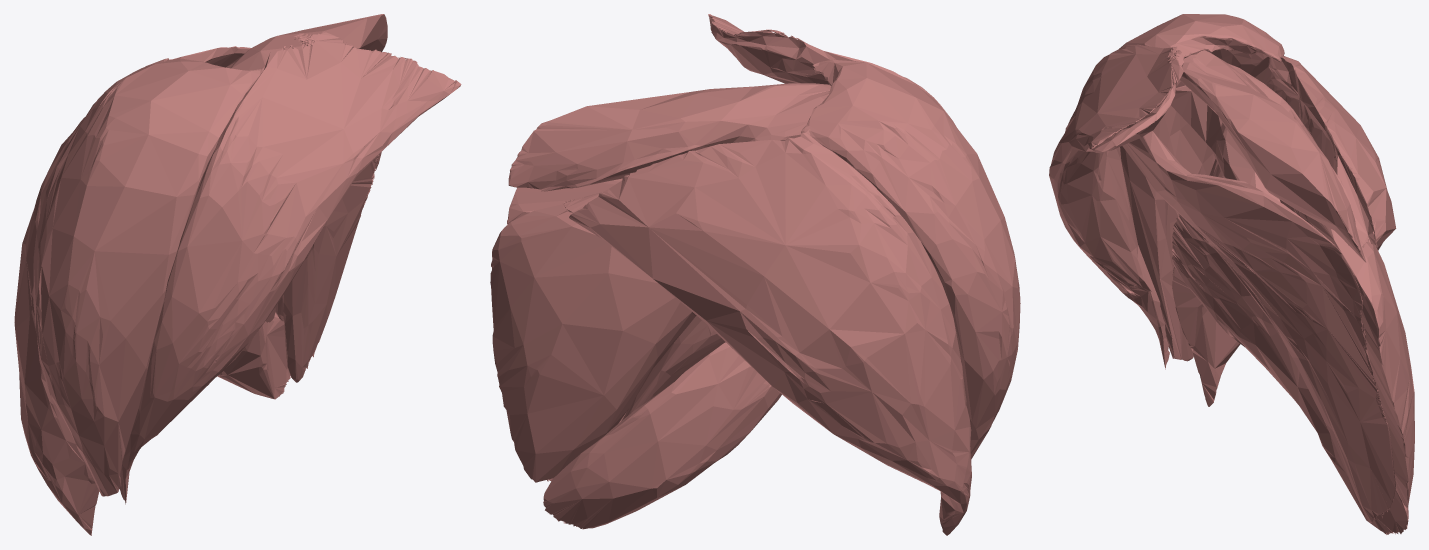
Rendered from shoulder-muscle.glb.
3 views of the same model, side by side, from view 1: azimuth 30°, elevation 25°; view 2: azimuth 150°, elevation 25°; view 3: azimuth 270°, elevation 25° (orthographic). The views are drawn at different scales.
Visible parts, largest first — view 1: deltoid-anterior-fibers__BP7573, deltoid-middle-fibers__BP7571, deltoid-posterior-fibers__BP5607, subscapularis__BP4795, teres-major__BP4789, supraspinatus__BP4791; view 2: deltoid-posterior-fibers__BP5607, infraspinatus__BP4797, deltoid-middle-fibers__BP7571, teres-major__BP4789, supraspinatus__BP4791, deltoid-anterior-fibers__BP7573, teres-minor__BP4793, subscapularis__BP4795; view 3: subscapularis__BP4795, deltoid-anterior-fibers__BP7573, deltoid-posterior-fibers__BP5607, deltoid-middle-fibers__BP7571, supraspinatus__BP4791, teres-major__BP4789, infraspinatus__BP4797, teres-minor__BP4793.
Part boxes in pixels (x1=…): deltoid-anterior-fibers__BP7573: x1=119, y1=32, x2=461, y2=504; deltoid-middle-fibers__BP7571: x1=33, y1=57, x2=262, y2=496; deltoid-posterior-fibers__BP5607: x1=14, y1=46, x2=250, y2=535; subscapularis__BP4795: x1=283, y1=52, x2=388, y2=382; teres-major__BP4789: x1=217, y1=313, x2=291, y2=399; supraspinatus__BP4791: x1=230, y1=14, x2=387, y2=71; deltoid-posterior-fibers__BP5607: x1=562, y1=129, x2=971, y2=535; infraspinatus__BP4797: x1=490, y1=204, x2=696, y2=482; deltoid-middle-fibers__BP7571: x1=801, y1=59, x2=1020, y2=459; teres-major__BP4789: x1=543, y1=342, x2=781, y2=529; supraspinatus__BP4791: x1=508, y1=83, x2=831, y2=191; deltoid-anterior-fibers__BP7573: x1=708, y1=14, x2=956, y2=126; teres-minor__BP4793: x1=621, y1=315, x2=725, y2=420; subscapularis__BP4795: x1=507, y1=178, x2=625, y2=481; subscapularis__BP4795: x1=1122, y1=131, x2=1396, y2=523; deltoid-anterior-fibers__BP7573: x1=1049, y1=44, x2=1183, y2=369; deltoid-posterior-fibers__BP5607: x1=1172, y1=54, x2=1396, y2=406; deltoid-middle-fibers__BP7571: x1=1119, y1=14, x2=1284, y2=361; supraspinatus__BP4791: x1=1179, y1=50, x2=1366, y2=262; teres-major__BP4789: x1=1171, y1=214, x2=1408, y2=534; infraspinatus__BP4797: x1=1228, y1=63, x2=1414, y2=507; teres-minor__BP4793: x1=1171, y1=85, x2=1280, y2=202.
Bounding box in the file's own units: 1.67 × 1.68 × 1.25.
